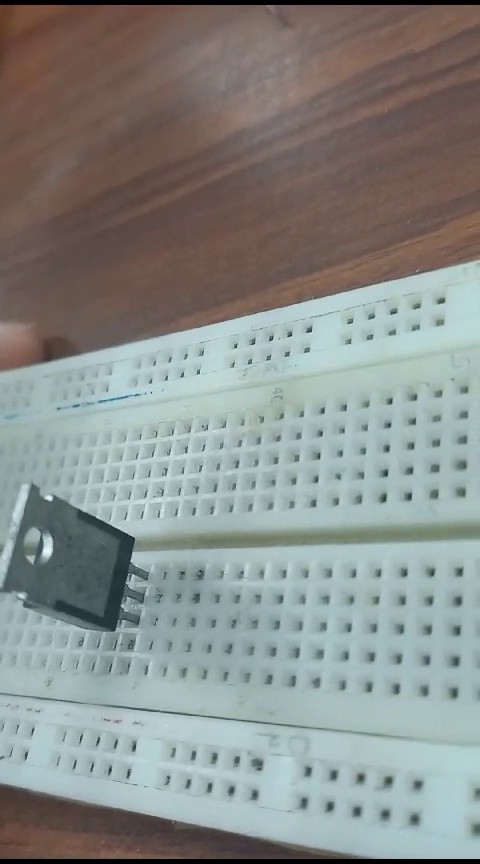voltage regulator: (5, 473, 162, 648)
